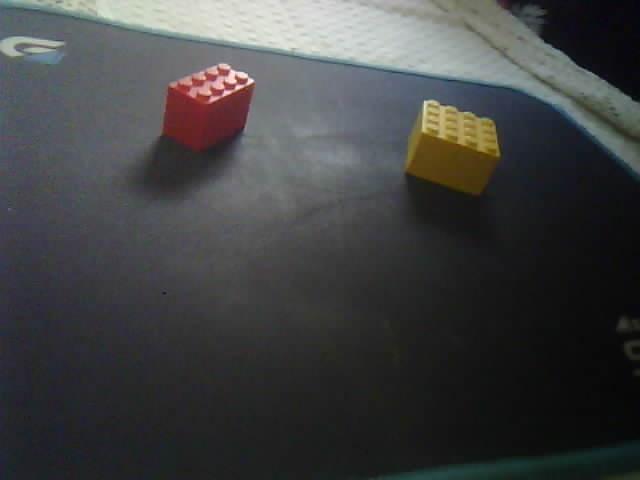lego: (404, 97, 503, 198), (158, 58, 258, 156)
